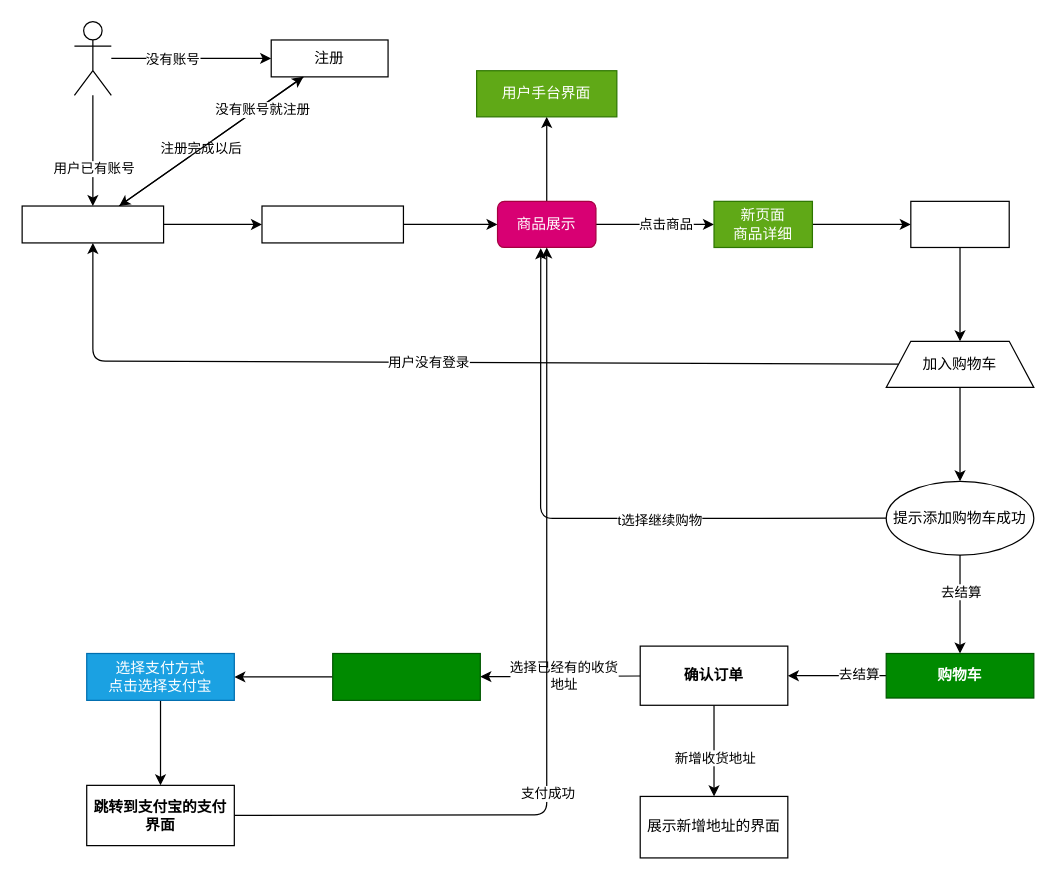
Image size: 1055x879. Some labels were removed from this diagram. The box of each missing label's shape, as (x1, y1, x2, y2) in pixels:
去结算 结算界面: (331, 652, 480, 700)
商城主页: (261, 205, 403, 243)
用户: (73, 20, 111, 95)
登录: (21, 205, 164, 243)
选择商品版本: (910, 200, 1009, 247)
